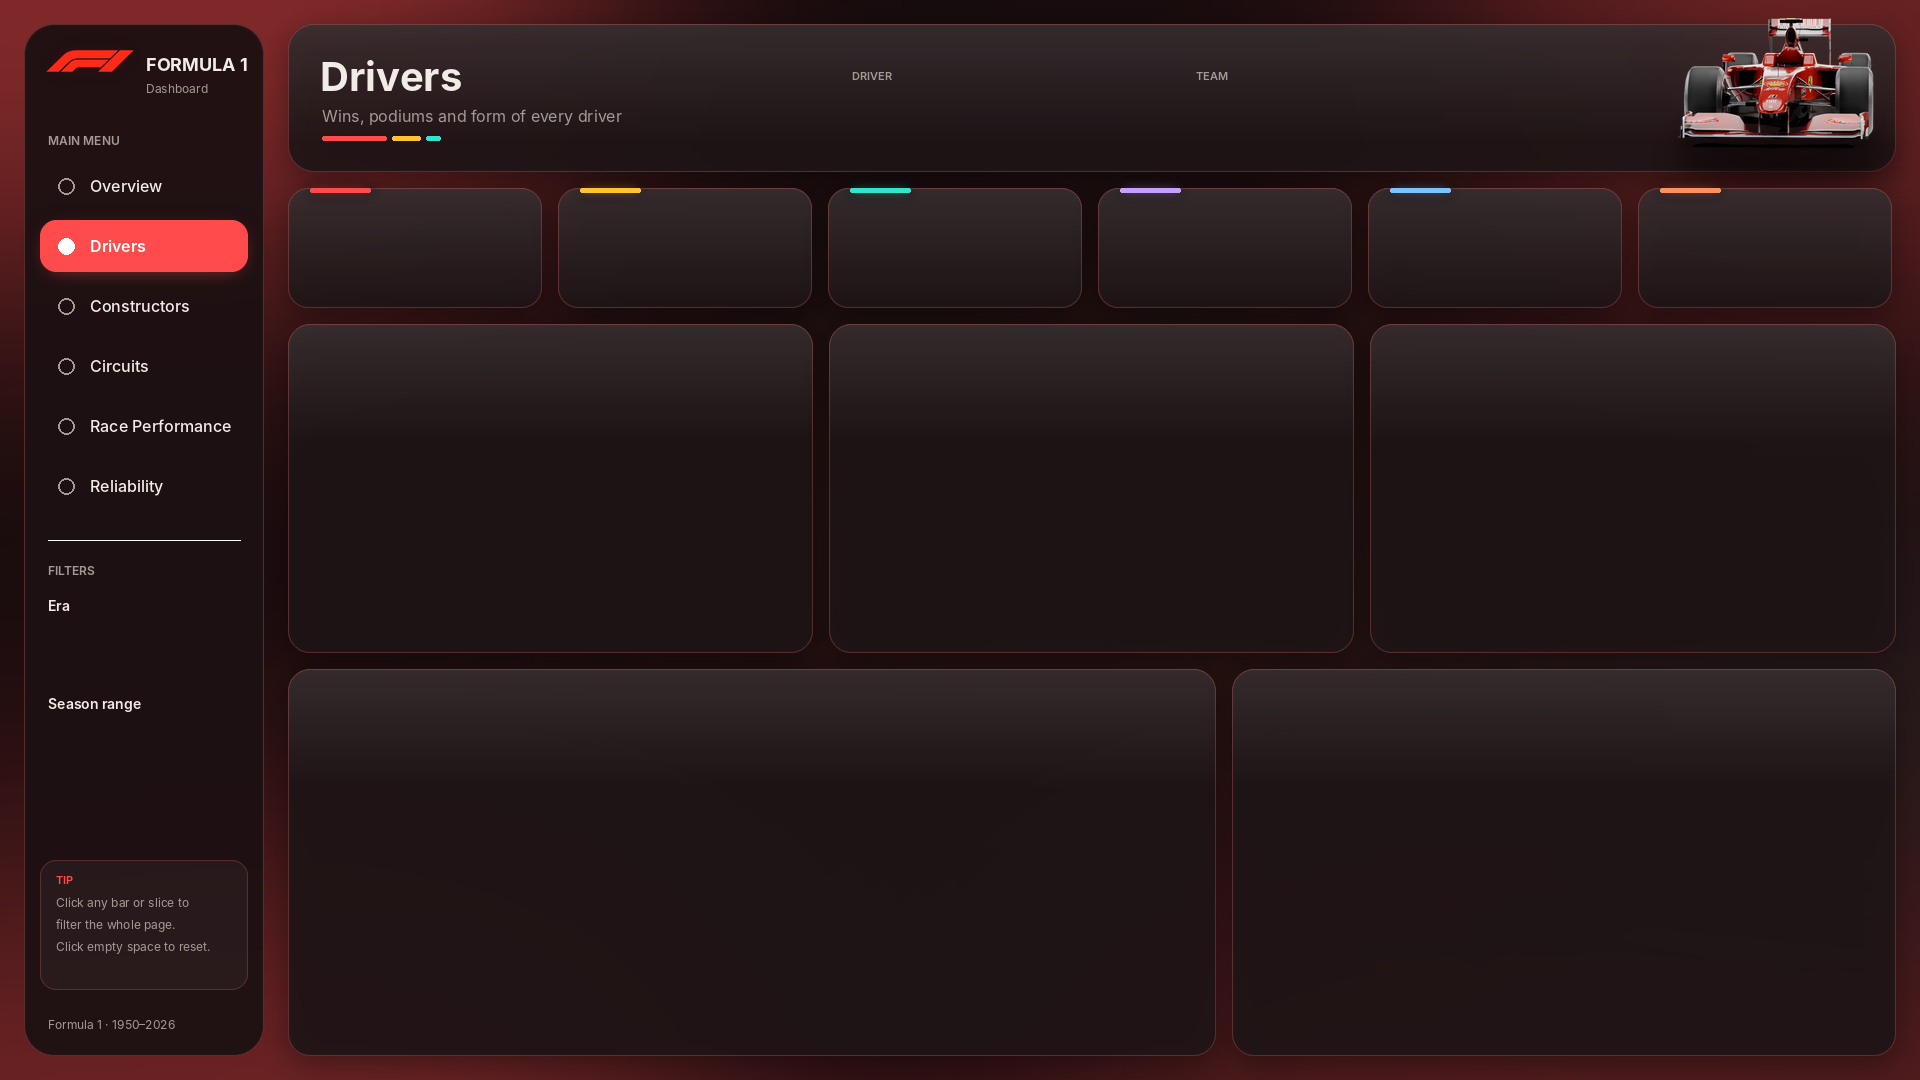

The dashboard page shown, as its layout file describes it:
{"tool":"powerbi","page":{"name":"Drivers","canvas":[1920,1080],"ordinal":1},"visuals":[{"type":"actionButton","box":[40,160,208,52],"z":1000},{"type":"actionButton","box":[40,220,208,52],"z":2000},{"type":"actionButton","box":[40,280,208,52],"z":3000},{"type":"actionButton","box":[40,340,208,52],"z":4000},{"type":"actionButton","box":[40,400,208,52],"z":5000},{"type":"actionButton","box":[40,460,208,52],"z":6000},{"type":"slicer","fields":{"Values":["dim_race.era"]},"box":[40,622,208,44],"z":7000},{"type":"slicer","fields":{"Values":["dim_race.year"]},"box":[40,724,208,96],"z":8000},{"type":"slicer","fields":{"Values":["dim_driver.driver_name"]},"box":[848,90,328,40],"z":9000},{"type":"slicer","fields":{"Values":["dim_constructor.constructor_name"]},"box":[1192,90,328,40],"z":10000},{"type":"card","fields":{"Values":["_Measures.Starts"]},"box":[300,202,230,96],"z":11000},{"type":"card","fields":{"Values":["_Measures.Wins"]},"box":[570,202,230,96],"z":12000},{"type":"card","fields":{"Values":["_Measures.Podiums"]},"box":[840,202,230,96],"z":13000},{"type":"card","fields":{"Values":["_Measures.Poles"]},"box":[1110,202,230,96],"z":14000},{"type":"card","fields":{"Values":["_Measures.Win Rate"]},"box":[1380,202,230,96],"z":15000},{"type":"card","fields":{"Values":["_Measures.Podium Rate"]},"box":[1650,202,230,96],"z":16000},{"type":"clusteredBarChart","title":"Top 10 by wins","fields":{"Category":["dim_driver.driver_name"],"Y":["_Measures.Wins"]},"box":[300,336,501,305],"z":17000},{"type":"clusteredBarChart","title":"Top 10 by podiums","fields":{"Category":["dim_driver.driver_name"],"Y":["_Measures.Podiums"]},"box":[841,336,501,305],"z":18000},{"type":"clusteredBarChart","title":"Top 10 by pole positions","fields":{"Category":["dim_driver.driver_name"],"Y":["_Measures.Poles"]},"box":[1382,336,502,305],"z":19000},{"type":"tableEx","title":"Driver scoreboard","fields":{"Values":["dim_driver.driver_name","dim_driver.nationality","_Measures.Starts","_Measures.Wins","_Measures.Podiums","_Measures.Poles","_Measures.Win Rate"]},"box":[300,681,904,363],"z":20000},{"type":"scatterChart","title":"Experience vs success","fields":{"Details":["dim_driver.driver_name"],"X":["_Measures.Starts"],"Y":["_Measures.Wins"]},"box":[1244,681,640,363],"z":21000}]}

Visuals, with their boxes on the page's 1920x1080 design canvas (x1, y1, x2, y2). These are canvas units, not pixel positions in the 1920x1080 screenshot, which may show the page scaled, cropped or inside an application window:
actionButton: pyautogui.locateOnScreen(40, 160, 248, 212)
actionButton: pyautogui.locateOnScreen(40, 220, 248, 272)
actionButton: pyautogui.locateOnScreen(40, 280, 248, 332)
actionButton: pyautogui.locateOnScreen(40, 340, 248, 392)
actionButton: pyautogui.locateOnScreen(40, 400, 248, 452)
actionButton: pyautogui.locateOnScreen(40, 460, 248, 512)
slicer - dim_race.era: pyautogui.locateOnScreen(40, 622, 248, 666)
slicer - dim_race.year: pyautogui.locateOnScreen(40, 724, 248, 820)
slicer - dim_driver.driver_name: pyautogui.locateOnScreen(848, 90, 1176, 130)
slicer - dim_constructor.constructor_name: pyautogui.locateOnScreen(1192, 90, 1520, 130)
card - _Measures.Starts: pyautogui.locateOnScreen(300, 202, 530, 298)
card - _Measures.Wins: pyautogui.locateOnScreen(570, 202, 800, 298)
card - _Measures.Podiums: pyautogui.locateOnScreen(840, 202, 1070, 298)
card - _Measures.Poles: pyautogui.locateOnScreen(1110, 202, 1340, 298)
card - _Measures.Win Rate: pyautogui.locateOnScreen(1380, 202, 1610, 298)
card - _Measures.Podium Rate: pyautogui.locateOnScreen(1650, 202, 1880, 298)
"Top 10 by wins" clusteredBarChart: pyautogui.locateOnScreen(300, 336, 801, 641)
"Top 10 by podiums" clusteredBarChart: pyautogui.locateOnScreen(841, 336, 1342, 641)
"Top 10 by pole positions" clusteredBarChart: pyautogui.locateOnScreen(1382, 336, 1884, 641)
"Driver scoreboard" tableEx: pyautogui.locateOnScreen(300, 681, 1204, 1044)
"Experience vs success" scatterChart: pyautogui.locateOnScreen(1244, 681, 1884, 1044)
